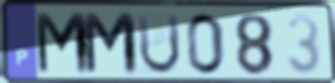0: (184, 12, 230, 77)
3: (285, 11, 322, 79)
8: (233, 11, 278, 78)
M: (80, 11, 142, 78), (32, 11, 94, 78)
U: (135, 12, 183, 78)
